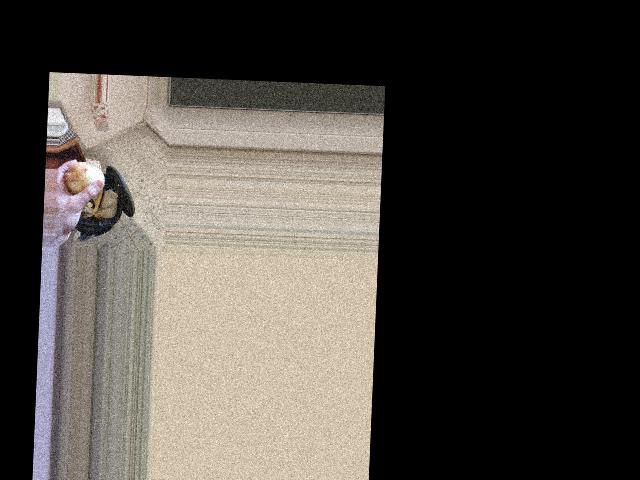onion: (67, 160, 103, 199)
